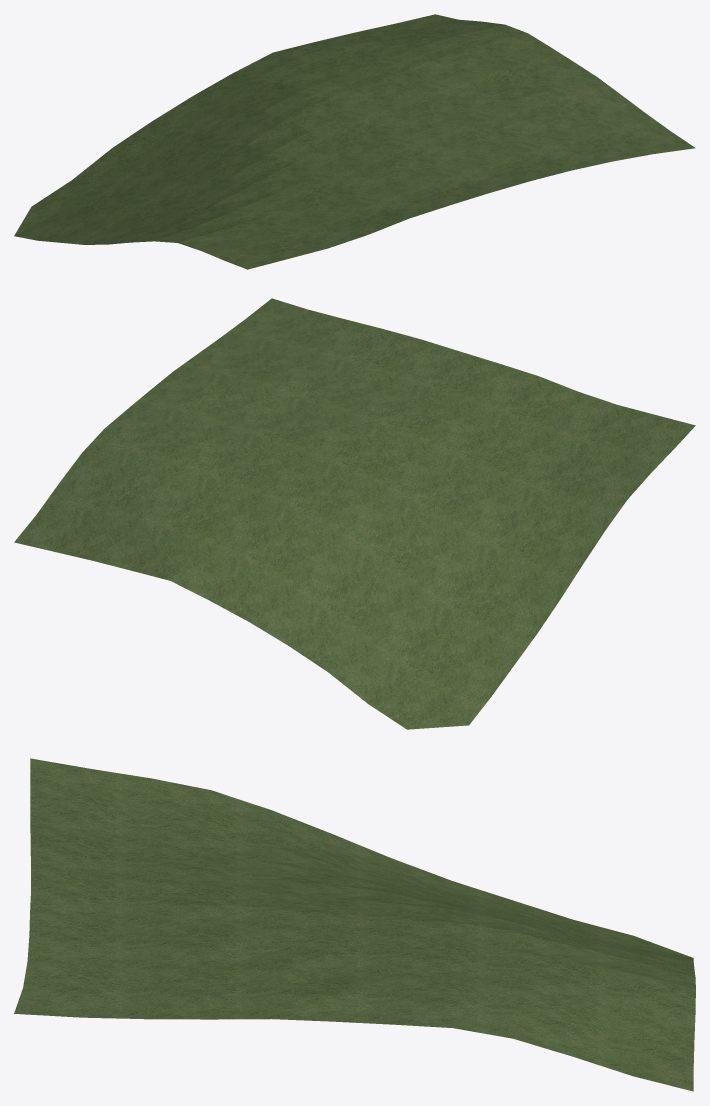
Rendered from a_carisle_mid_landmass_02_12.fbx.
The picture shows the model from 3 angles, top to bottom: view 1: azimuth 30°, elevation 25°; view 2: azimuth 150°, elevation 25°; view 3: azimuth 270°, elevation 25°; orthographic projection. The views are drawn at different scales.
Visible parts, largest first — view 1: a_carisle_mid_landmass_02_12; view 2: a_carisle_mid_landmass_02_12; view 3: a_carisle_mid_landmass_02_12.
Part boxes in pixels (left/top/right/bottom): a_carisle_mid_landmass_02_12: left=14, top=14, right=695, bottom=269; a_carisle_mid_landmass_02_12: left=14, top=298, right=695, bottom=729; a_carisle_mid_landmass_02_12: left=14, top=758, right=695, bottom=1091.
Size of the model in its own units: 22.4 by 23.02 by 7.6.
